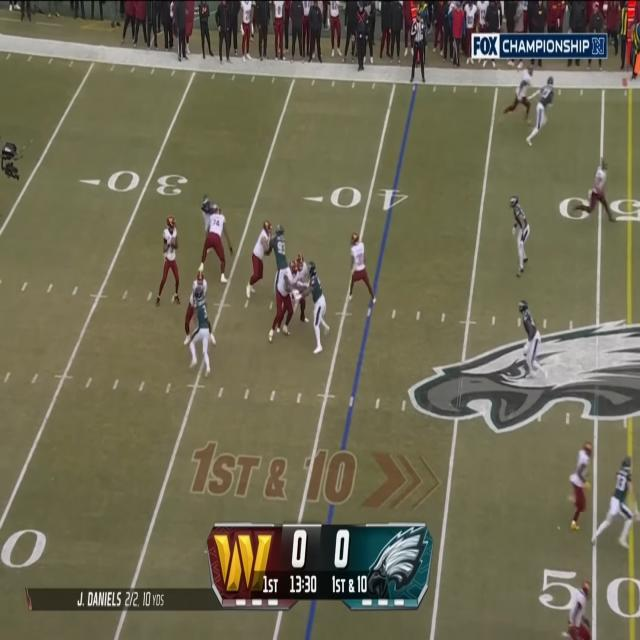Ball: (171, 237, 178, 251)
